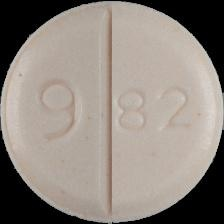58118-0032: (0, 0, 224, 224)
